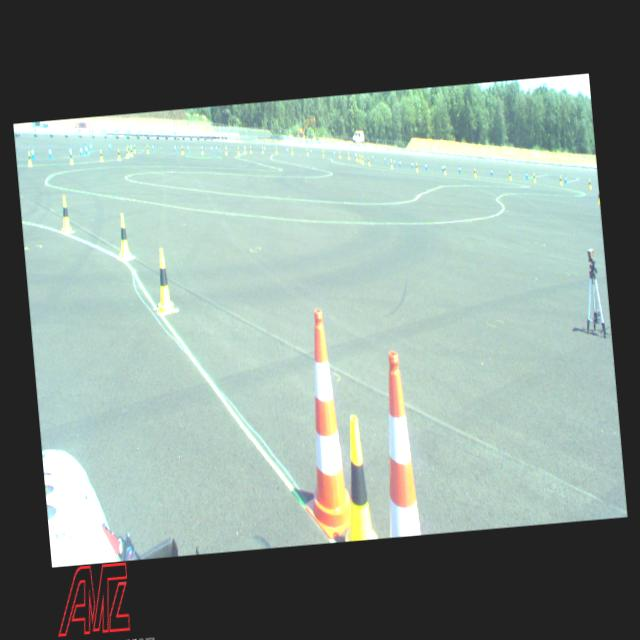blue_cone: (30, 146, 34, 159), (78, 144, 82, 156), (84, 142, 88, 154), (48, 147, 52, 158), (68, 145, 72, 156), (524, 169, 528, 179), (89, 142, 92, 152), (489, 167, 492, 176), (458, 164, 461, 173), (215, 144, 218, 153), (210, 144, 213, 152), (186, 144, 189, 152), (108, 142, 111, 150), (398, 158, 401, 166), (441, 164, 444, 172), (424, 162, 427, 170), (410, 160, 413, 167), (152, 142, 154, 152), (130, 142, 132, 152), (393, 157, 395, 166), (371, 154, 373, 162), (564, 174, 566, 182), (174, 144, 176, 152), (384, 154, 386, 162), (286, 146, 288, 154), (264, 145, 266, 152), (332, 150, 334, 156), (310, 148, 312, 154), (354, 152, 356, 158)
large_orange_cone: (288, 308, 353, 538), (374, 352, 420, 536)
yellow_cone: (334, 417, 377, 540), (152, 248, 176, 313), (116, 212, 131, 260), (58, 196, 72, 233), (68, 149, 74, 164), (98, 148, 104, 162), (27, 150, 32, 164), (557, 174, 562, 186), (596, 190, 600, 203), (116, 148, 120, 160), (588, 178, 592, 189), (508, 170, 512, 180), (532, 172, 536, 182), (414, 162, 418, 172), (126, 144, 130, 154), (146, 143, 149, 154), (200, 144, 203, 154), (125, 148, 128, 158), (443, 165, 446, 175), (180, 145, 183, 155), (338, 150, 341, 159), (133, 144, 136, 153), (473, 168, 476, 176), (237, 146, 240, 154), (290, 147, 293, 155), (358, 154, 361, 162), (367, 156, 370, 164), (224, 146, 227, 154), (306, 148, 309, 155), (360, 156, 363, 163), (243, 146, 246, 153), (347, 152, 350, 159), (390, 158, 392, 168), (130, 146, 132, 156), (249, 146, 252, 152), (322, 149, 324, 157), (275, 146, 277, 152), (355, 154, 357, 160), (262, 146, 264, 152)
